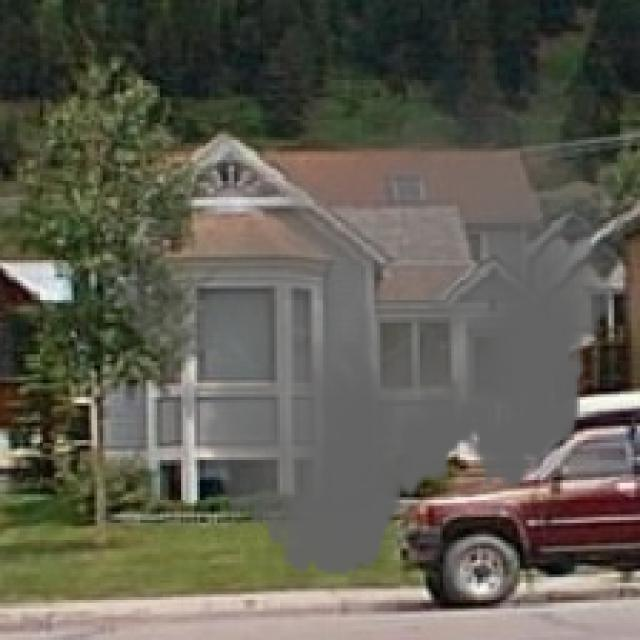Smoke: (109, 31, 626, 598)
